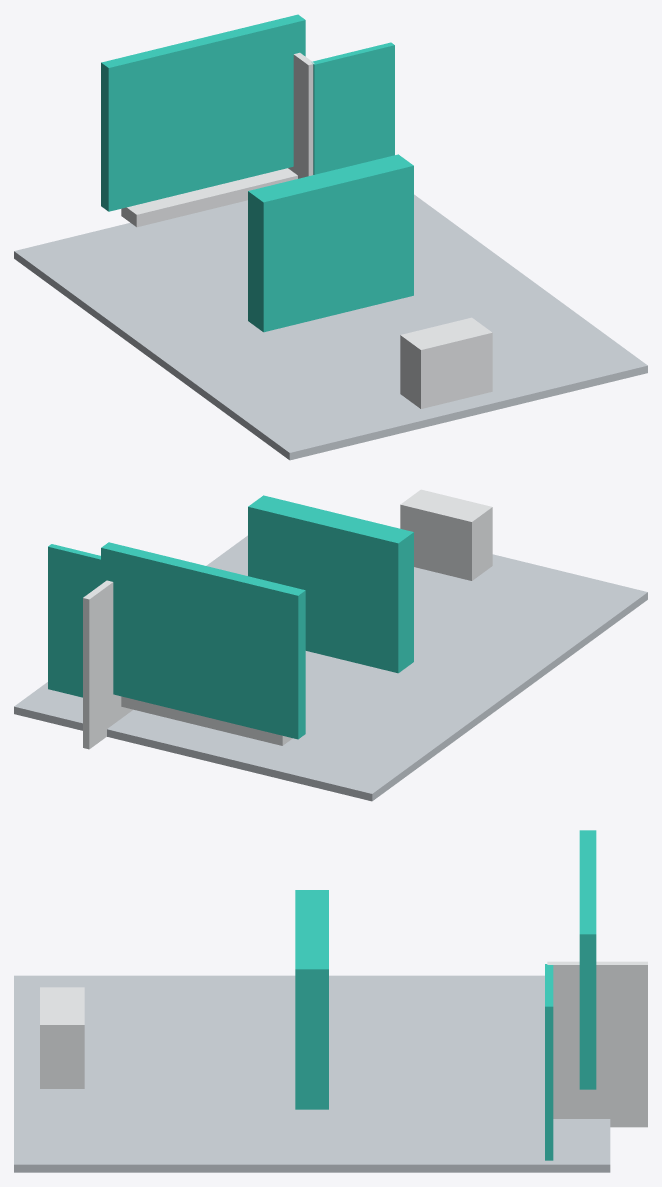
The picture shows the model from 3 angles, top to bottom: view 1: azimuth 30°, elevation 25°; view 2: azimuth 150°, elevation 25°; view 3: azimuth 270°, elevation 25°; orthographic projection. The views are drawn at different scales.
Parts seen in each view (by area): view 1: Exhibition Booth Concept; view 2: Exhibition Booth Concept; view 3: Exhibition Booth Concept.
Boxes of the visible parts, left/top/right/bottom form: Exhibition Booth Concept: left=14, top=14, right=647, bottom=460; Exhibition Booth Concept: left=14, top=489, right=647, bottom=801; Exhibition Booth Concept: left=14, top=830, right=647, bottom=1172.
Bounding box in the file's own units: 6 × 2.9 × 8.51.
